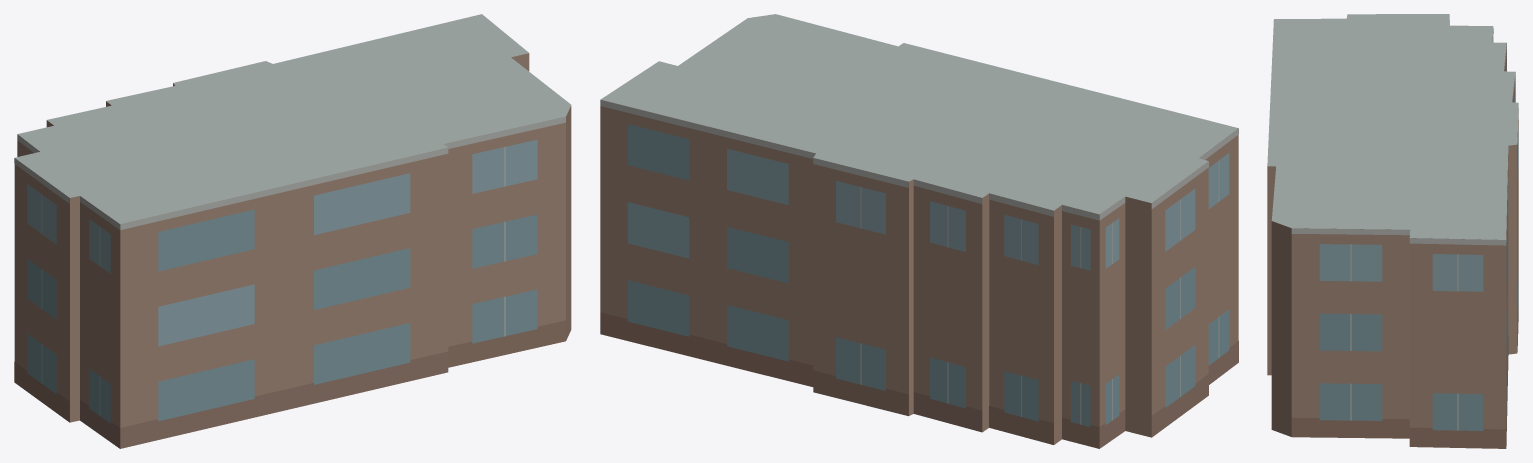
File: survey-upis-32654748.glb
3 renders of one model, left to right at view 1: azimuth 30°, elevation 25°; view 2: azimuth 150°, elevation 25°; view 3: azimuth 270°, elevation 25°, orthographic. The views are drawn at different scales.
Parts seen in each view (by area): view 1: survey-upis-32654748.tmp; view 2: survey-upis-32654748.tmp; view 3: survey-upis-32654748.tmp.
Part boxes in pixels (box(x1,y1,x2,y2)): survey-upis-32654748.tmp: box(14, 14, 571, 448); survey-upis-32654748.tmp: box(600, 14, 1238, 448); survey-upis-32654748.tmp: box(1267, 14, 1518, 448).
Bounding box in the file's own units: 21.23 × 9.15 × 9.99.
